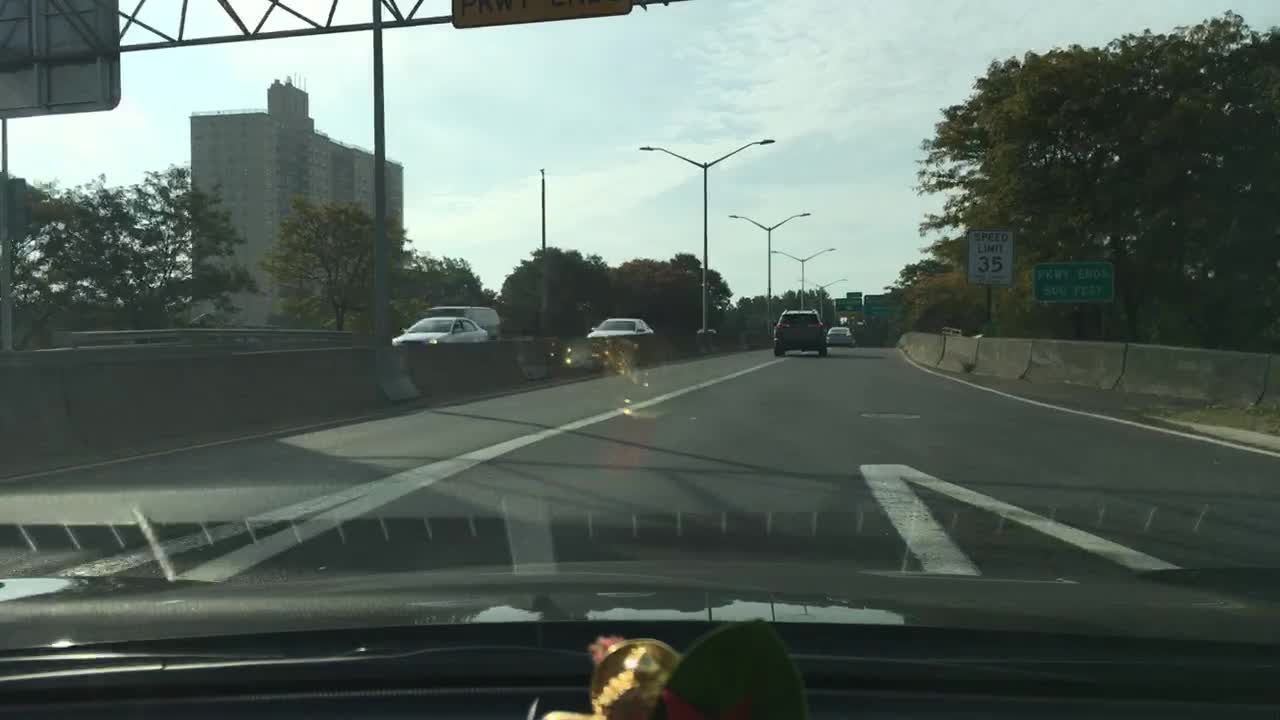car: (389, 315, 490, 350), (424, 302, 501, 340), (768, 309, 826, 357), (583, 317, 651, 339), (826, 324, 854, 347)
traffic sign: (2, 0, 122, 121), (449, 2, 631, 27), (1030, 257, 1117, 307), (967, 227, 1014, 284), (863, 292, 905, 320), (831, 288, 864, 317)
